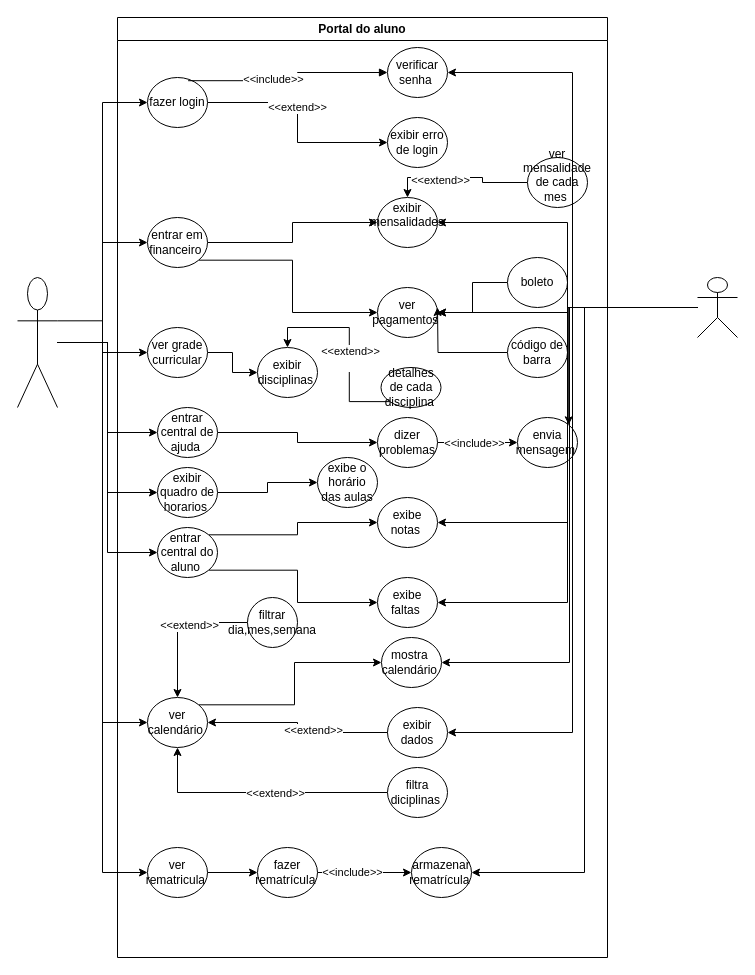
Some shapes in this 755 by 975 pixel diagram are drawn without their labels. Here are the shapes that lost their labels. From the top down, the centre of each, then its label:
the point at 717,307: sistema
the point at 37,342: aluno
